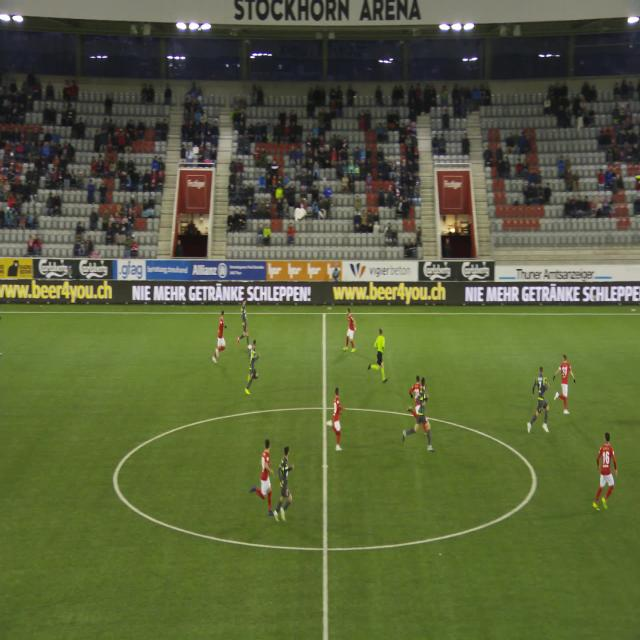Ball: (246, 342, 253, 354)
Player: (401, 372, 439, 468), (588, 428, 626, 516), (272, 435, 300, 536), (249, 435, 277, 525), (323, 381, 353, 464), (521, 366, 555, 438), (552, 348, 578, 429), (208, 306, 231, 368), (339, 304, 362, 366), (244, 333, 262, 400), (236, 290, 253, 350), (412, 372, 424, 388)
Referee: (365, 322, 390, 394)
